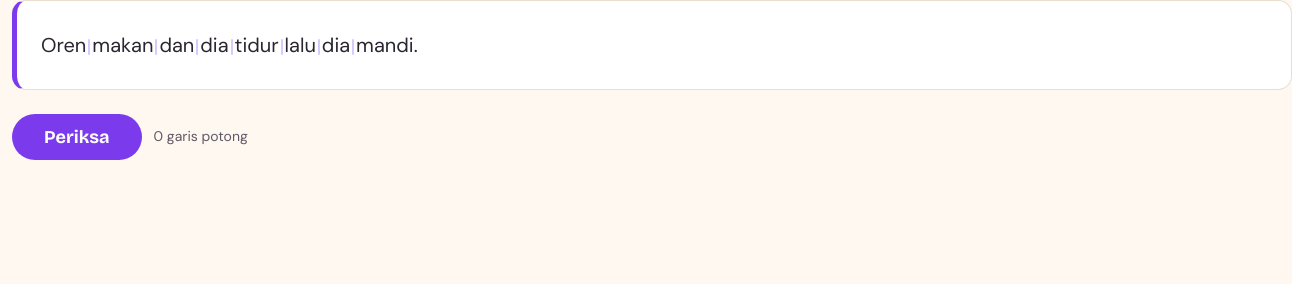
Test: Gunting › setelah periksa, potongan yang terlewat ditunjukkan
Click the 3rd button named "pasang garis potong di sini": (197, 47) x1=194 y1=41 x2=200 y2=54
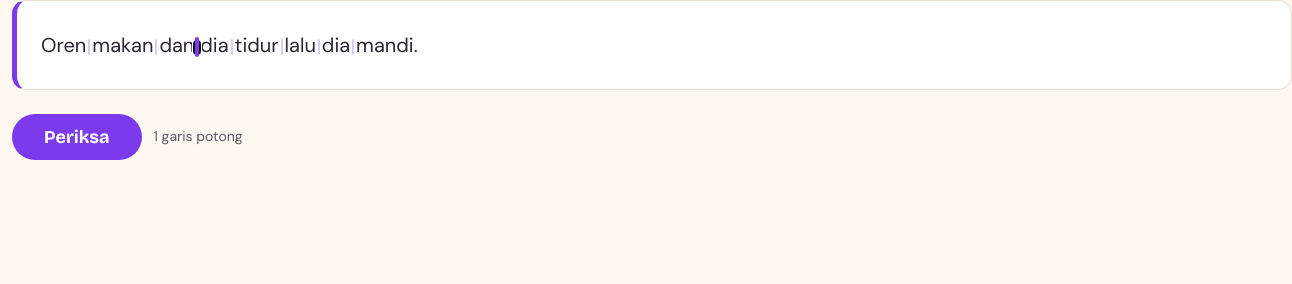
Click the button "Periksa": (77, 137) x1=12 y1=114 x2=142 y2=160
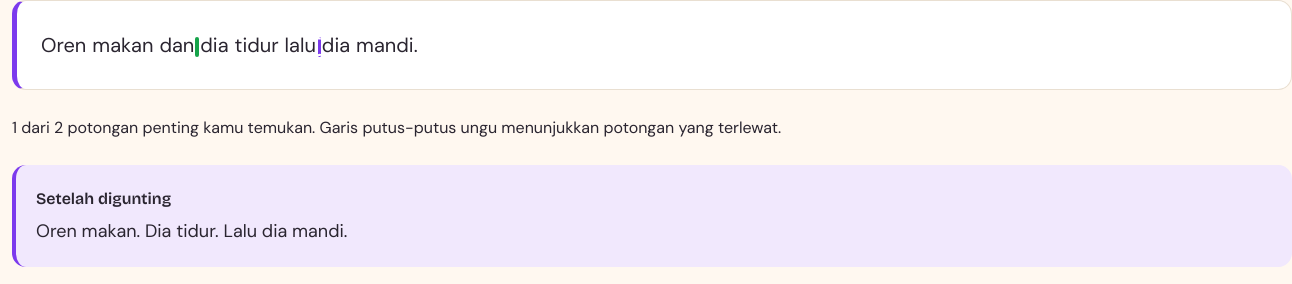
expect the message shows "yang terlewat": met, box x1=315 y1=117 x2=781 y2=138
